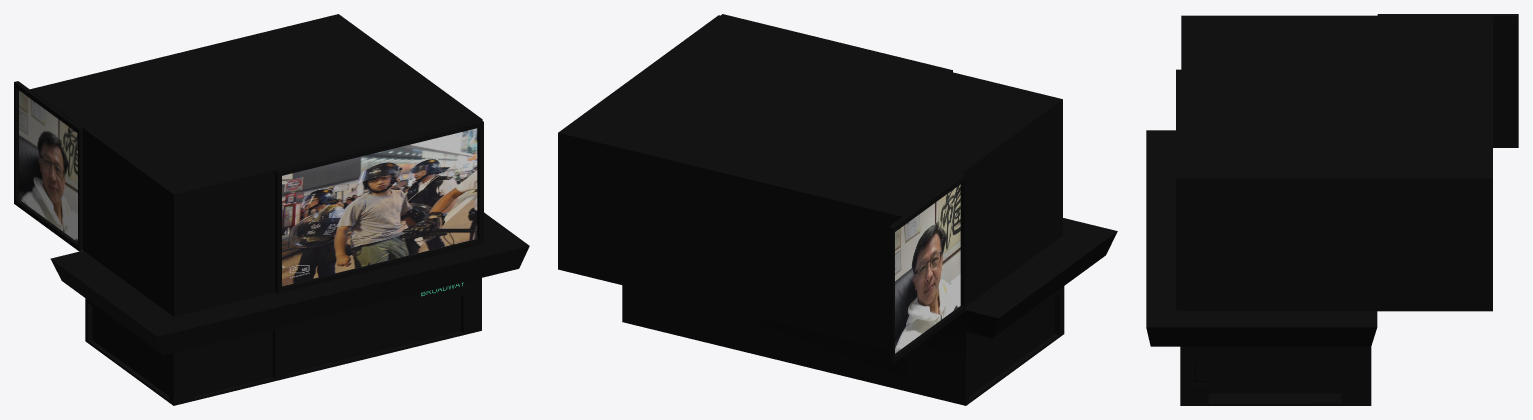
3 renders of one model, left to right at view 1: azimuth 30°, elevation 25°; view 2: azimuth 150°, elevation 25°; view 3: azimuth 270°, elevation 25°, orthographic. The views are drawn at different scales.
Visible parts, largest first — view 1: Box006, Box002, Object, Object003, Box007, Box008; view 2: Box006, Box002, Object003, Box008, Box007; view 3: Box006, Box002, Box008, Box007.
Boxes of the visible parts, box(x1,y1,x2,y2) form: Box006: box(30, 14, 482, 316); Box002: box(50, 212, 529, 405); Object: box(282, 128, 477, 286); Object003: box(19, 90, 77, 242); Box007: box(275, 120, 483, 293); Box008: box(14, 81, 82, 251); Box006: box(558, 15, 1062, 350); Box002: box(622, 218, 1117, 405); Object003: box(895, 184, 960, 353); Box008: box(889, 174, 965, 363); Box007: box(721, 14, 952, 72); Box006: box(1181, 15, 1492, 311); Box002: box(1146, 130, 1377, 405); Box008: box(1377, 14, 1518, 147); Box007: box(1176, 69, 1181, 310).
Size of the model in its own units: 1654 by 894 by 1323.
4 materials, 2 textured.
